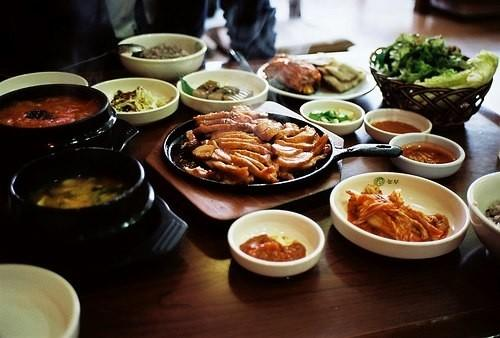food: (161, 103, 337, 199), (329, 163, 470, 258), (14, 144, 144, 231), (371, 26, 494, 91), (227, 204, 324, 279), (119, 27, 208, 80), (176, 62, 268, 113), (96, 71, 179, 125), (390, 127, 459, 177), (262, 52, 325, 99), (301, 94, 363, 135), (363, 104, 431, 141)
